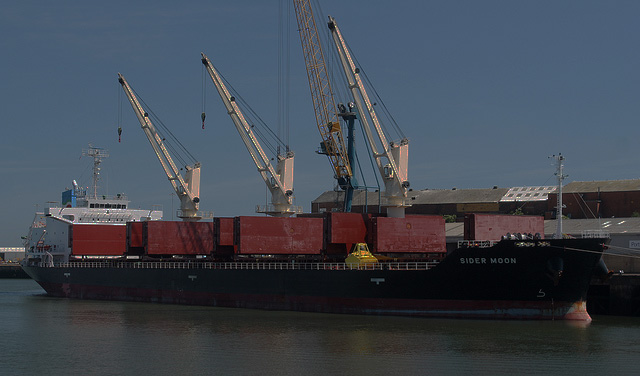bulk carrier: (21, 149, 608, 319)
